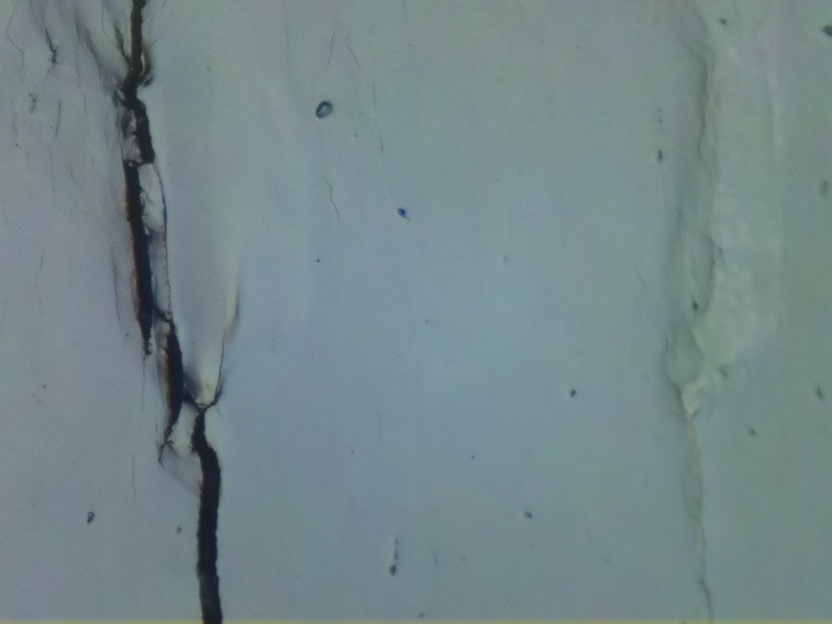crack: (114, 0, 233, 624)
